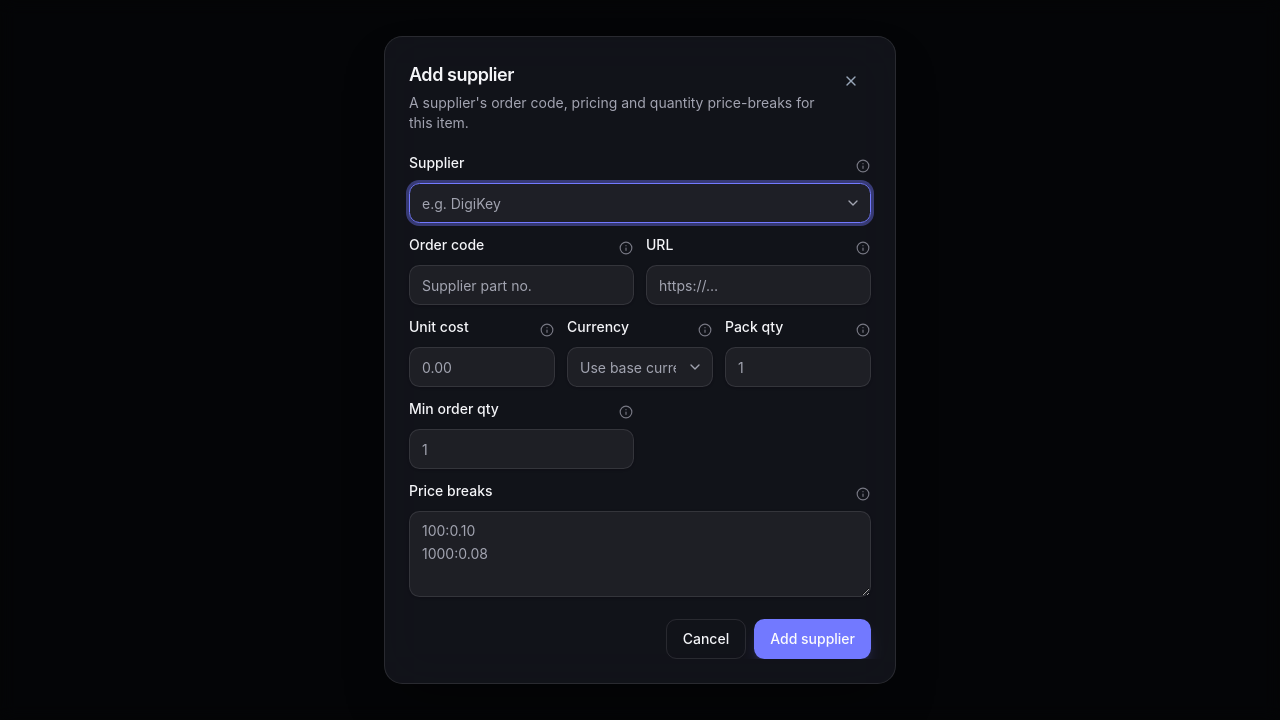
Test: SupplierPartFormDialog — the validation gates block submit › rejects a non-numeric unit cost rather than coercing it to null
The image size is (1280, 720).
In the dropdown with test id "supplier-part-name": (640,203) [409,183,871,223], type "DigiKey"
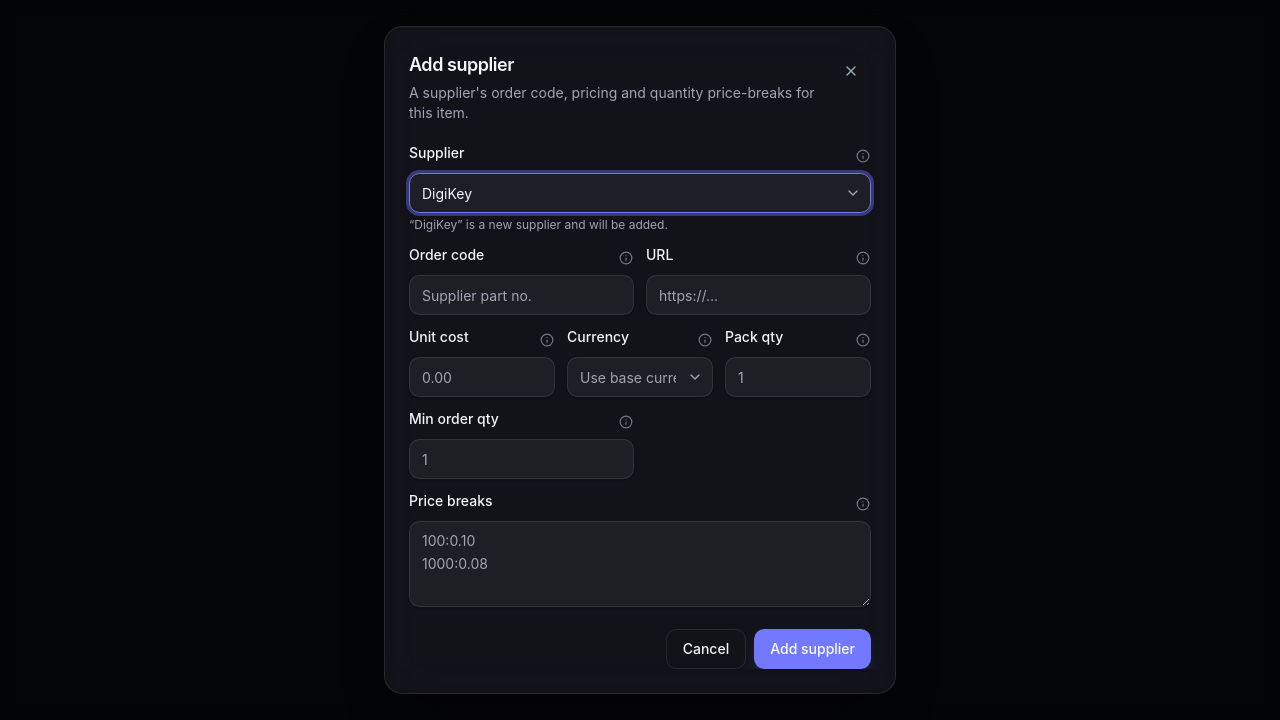
In the field with test id "supplier-part-unit-cost": (482,377) [409,357,555,397], type "abc"
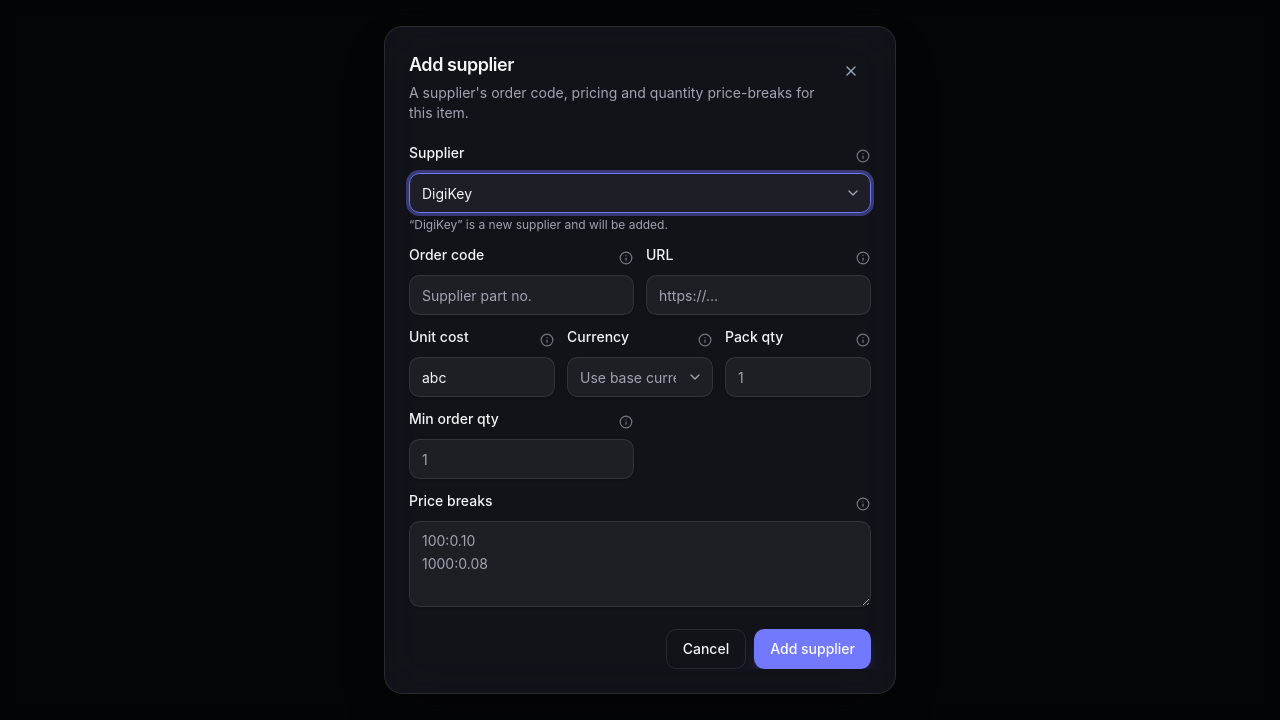
Submit the form with test id "supplier-part-form", box [409,143,871,669]
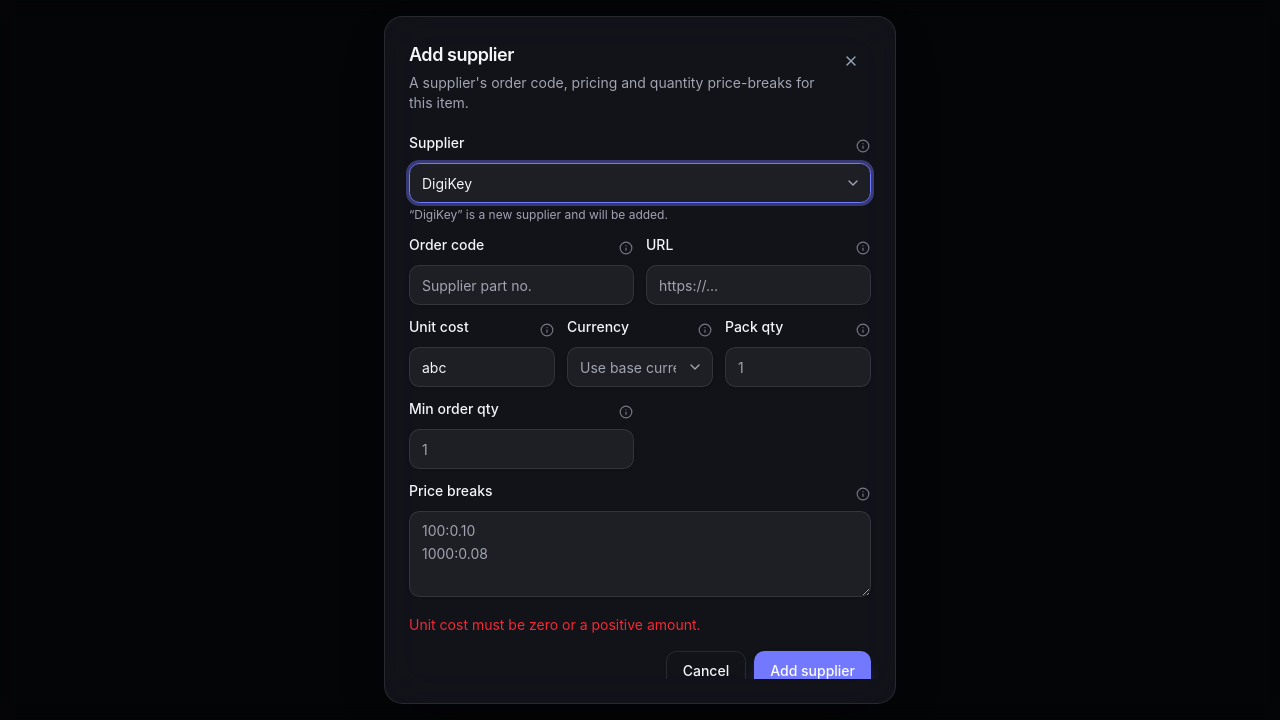
Check: the message "Unit cost must be zero or a positive amount." is shown, box [409,616,701,633]
